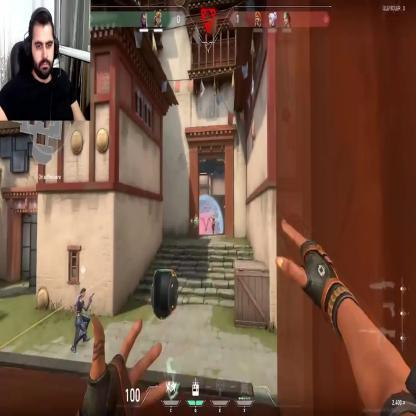enemy: (212, 214, 216, 233)
enemy_head: (213, 214, 214, 218)
